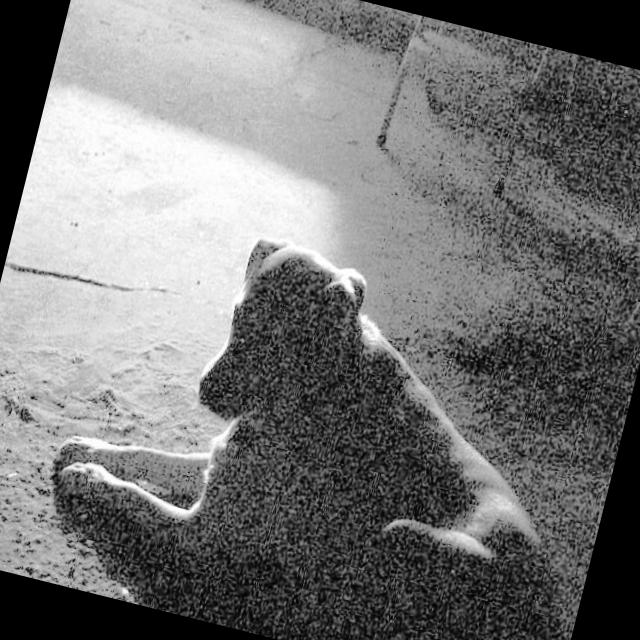Dog: (52, 189, 585, 640)
